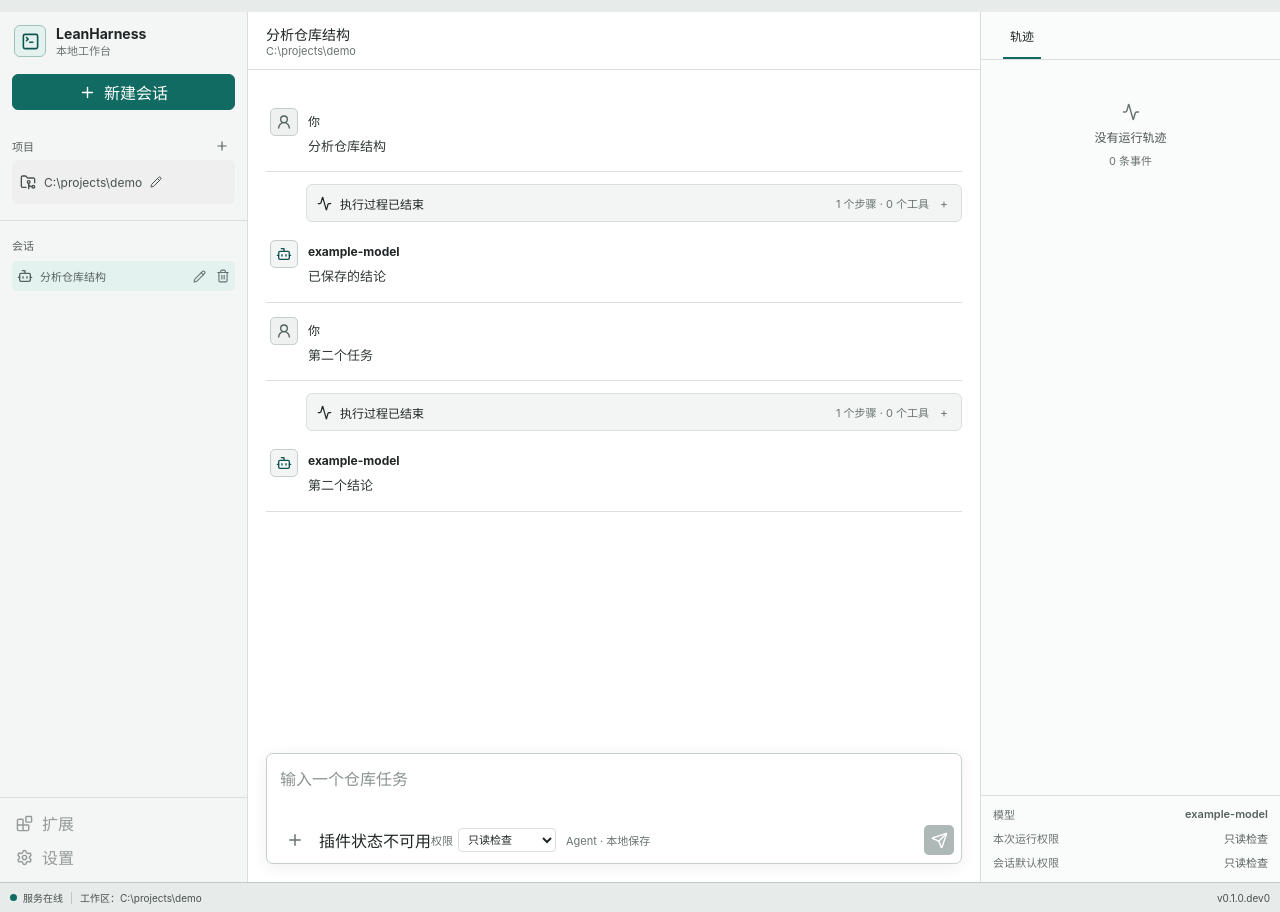
application shell › keeps persisted run actions independently collapsed
The image size is (1280, 912).
Click the 1st button "执行过程已结束 1 个步骤 · 0 个工具 +".
click(382, 204)  # box [307,185,961,221]
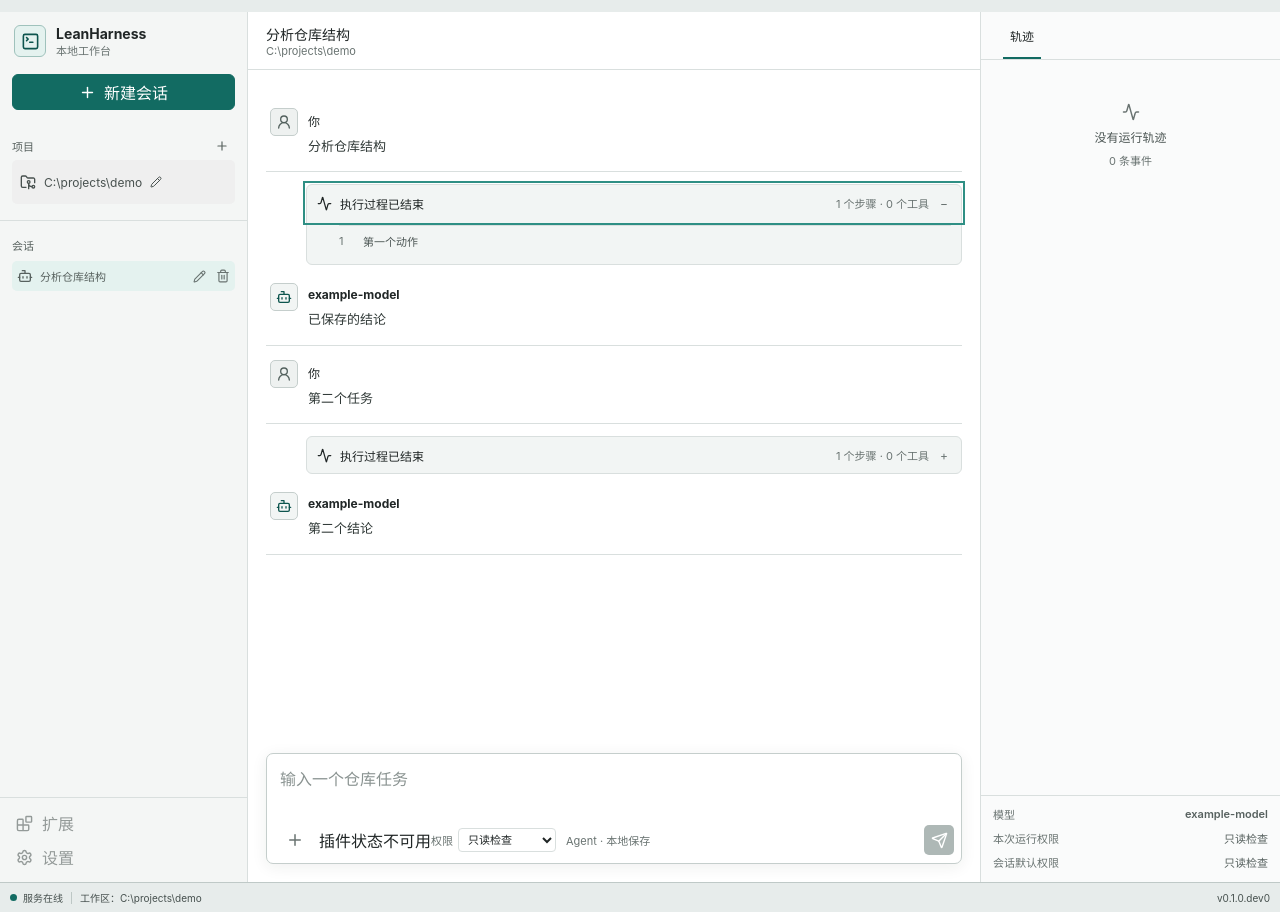
Result: the text "第一个动作" is shown at [363,235,418,249]
